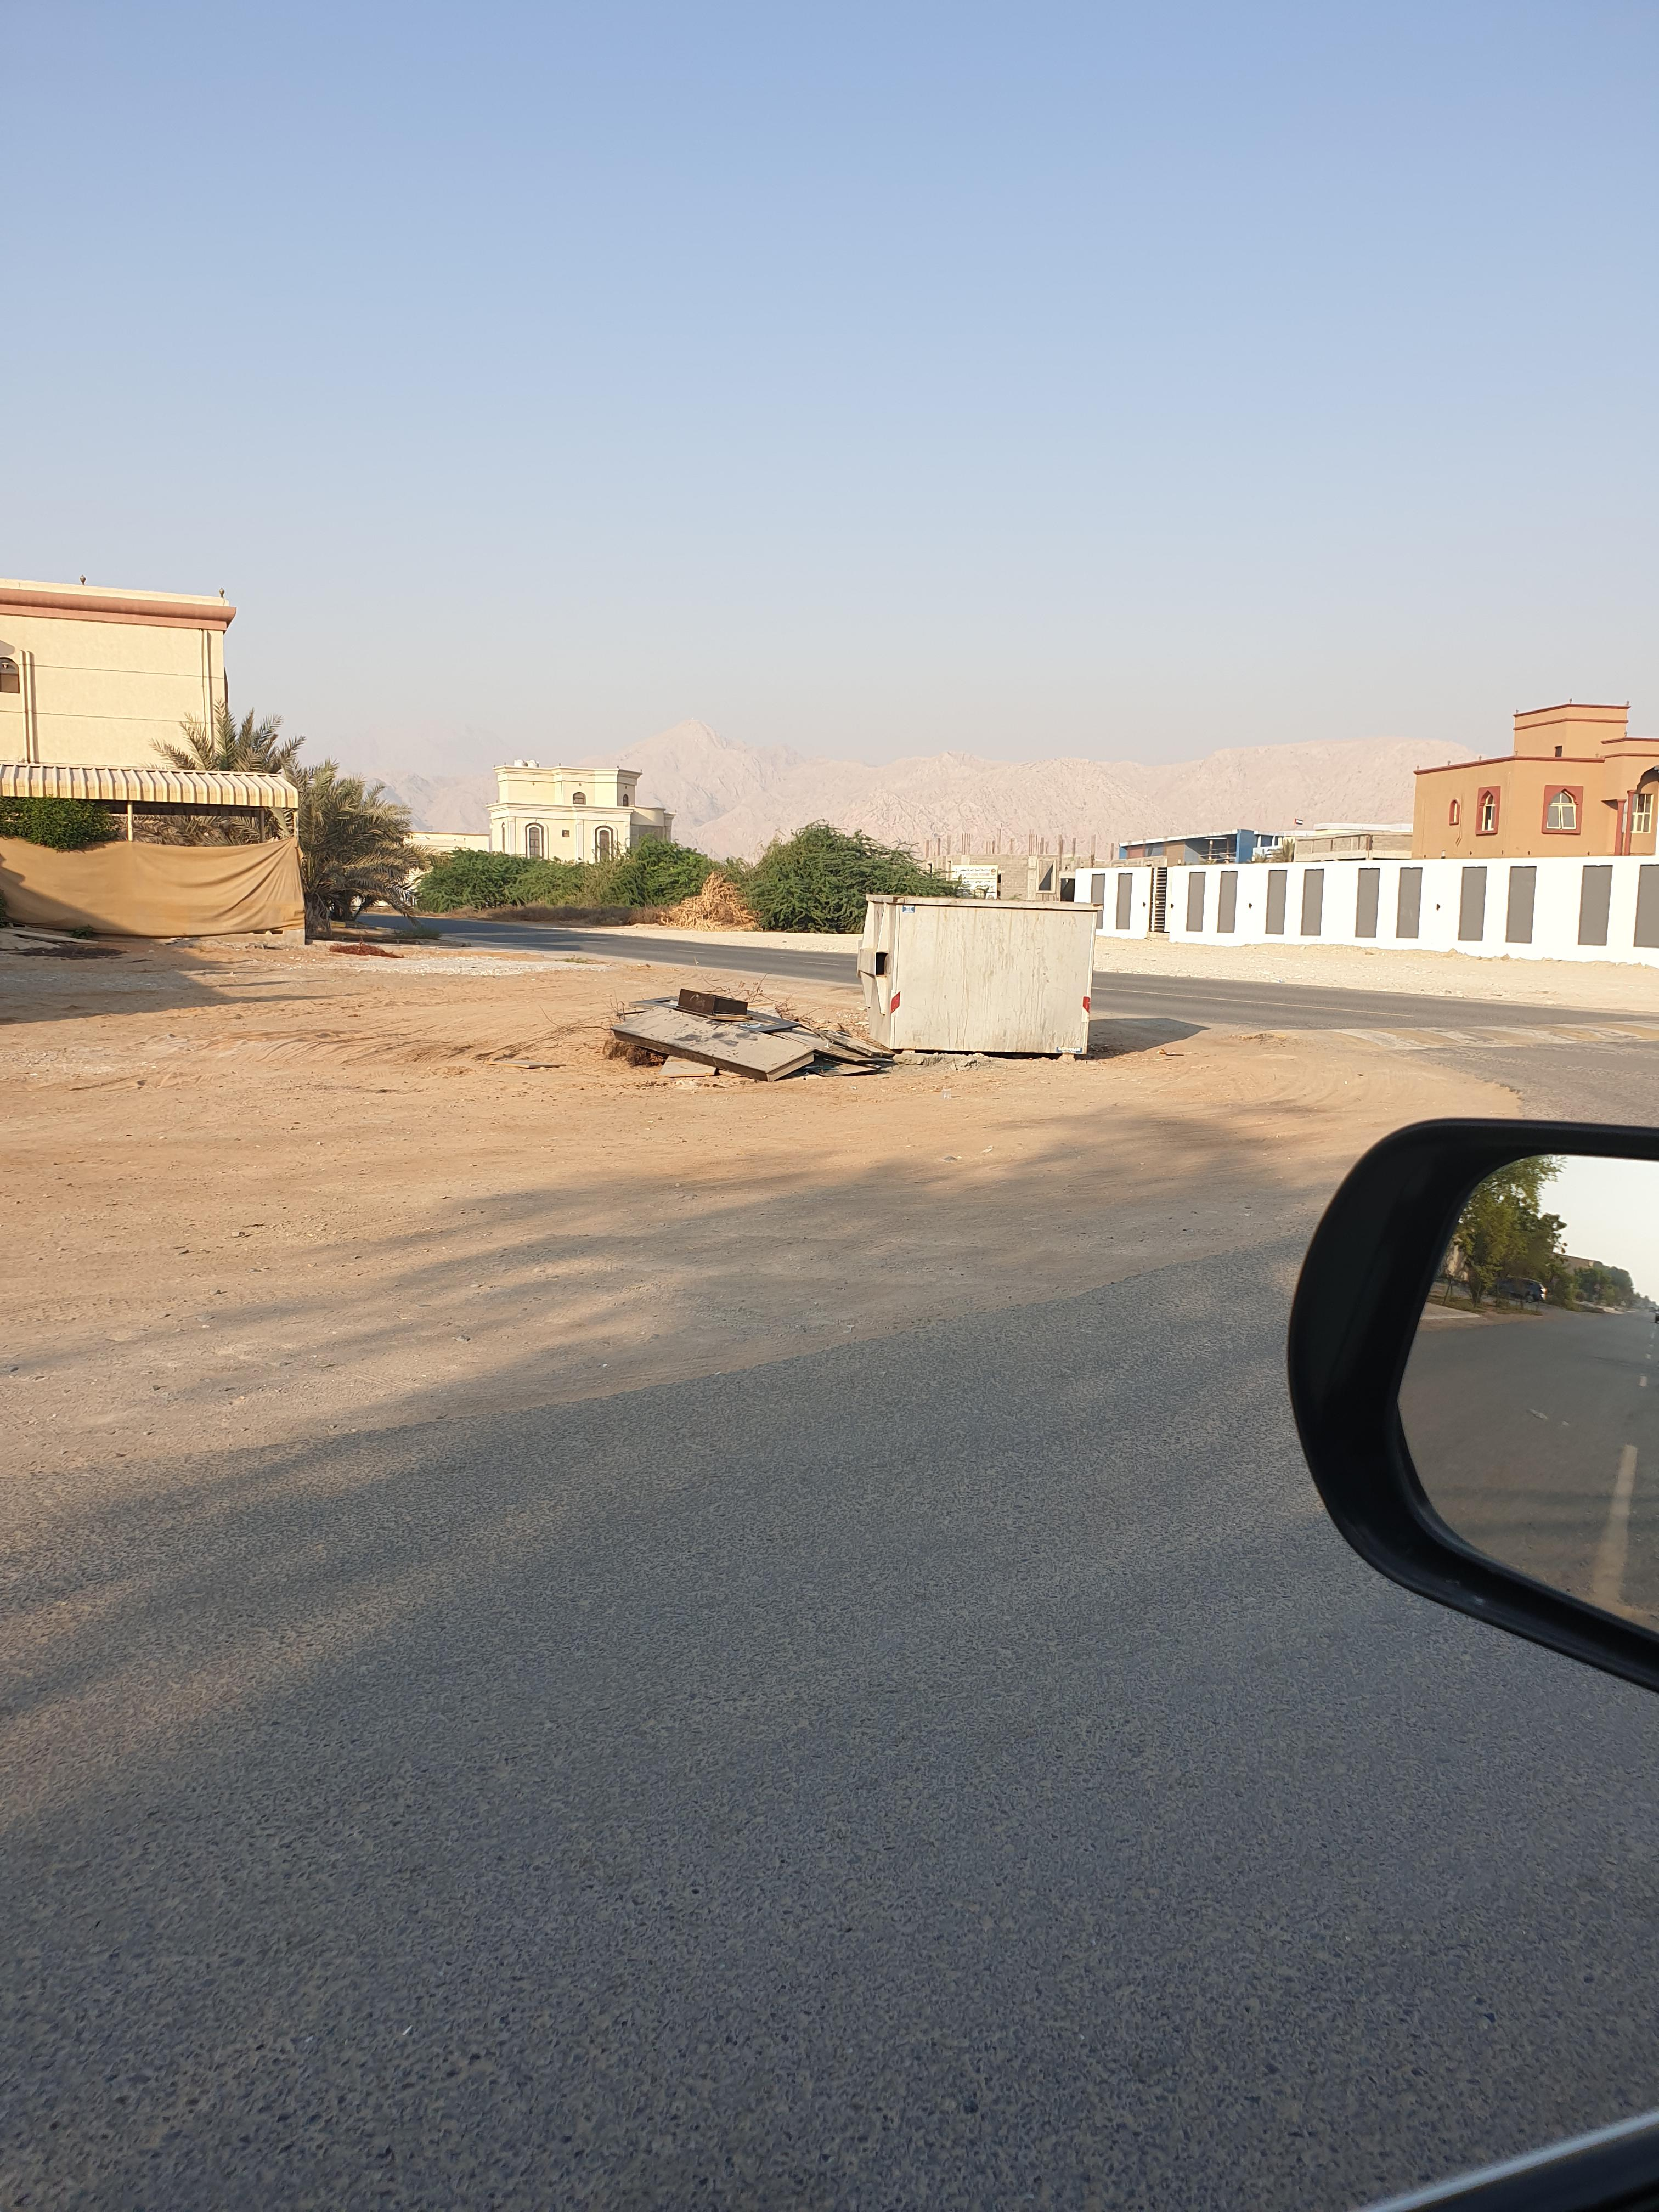uncollected_waste: (617, 977, 896, 1111), (608, 991, 859, 1089), (594, 1003, 809, 1089), (631, 965, 812, 1038), (728, 1033, 889, 1087)
